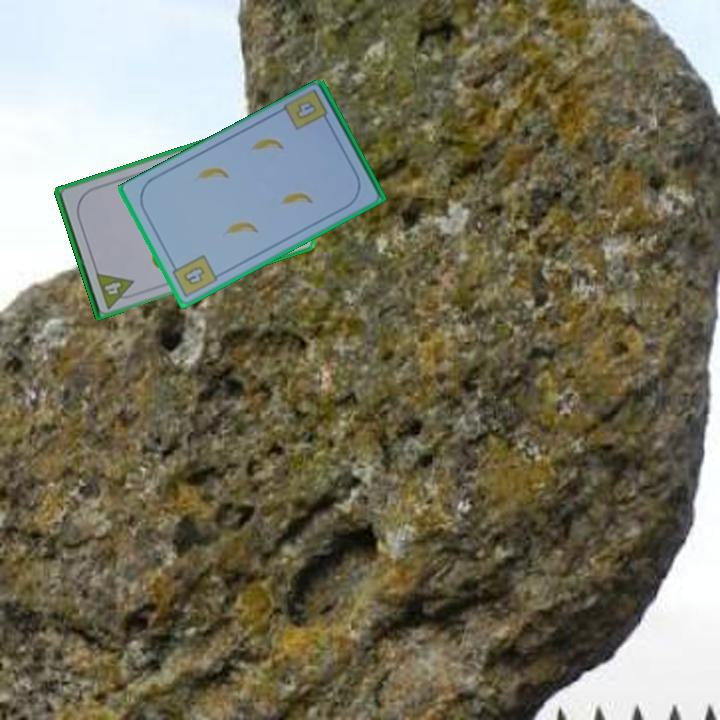4b: (167, 251, 220, 300), (292, 97, 320, 123)
4p: (92, 268, 140, 311)
